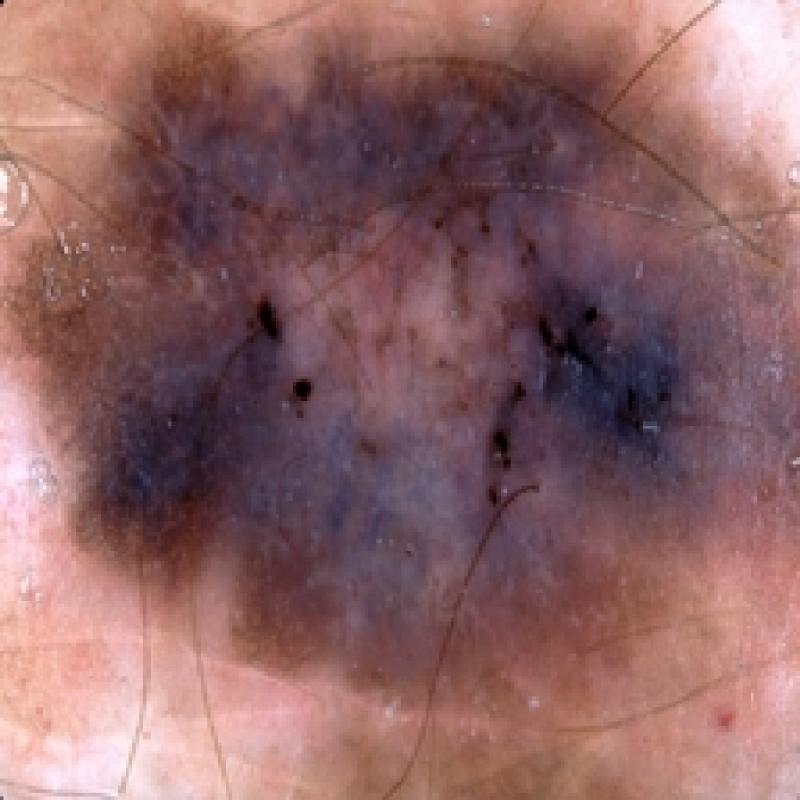malignant: (0, 1, 796, 750)
